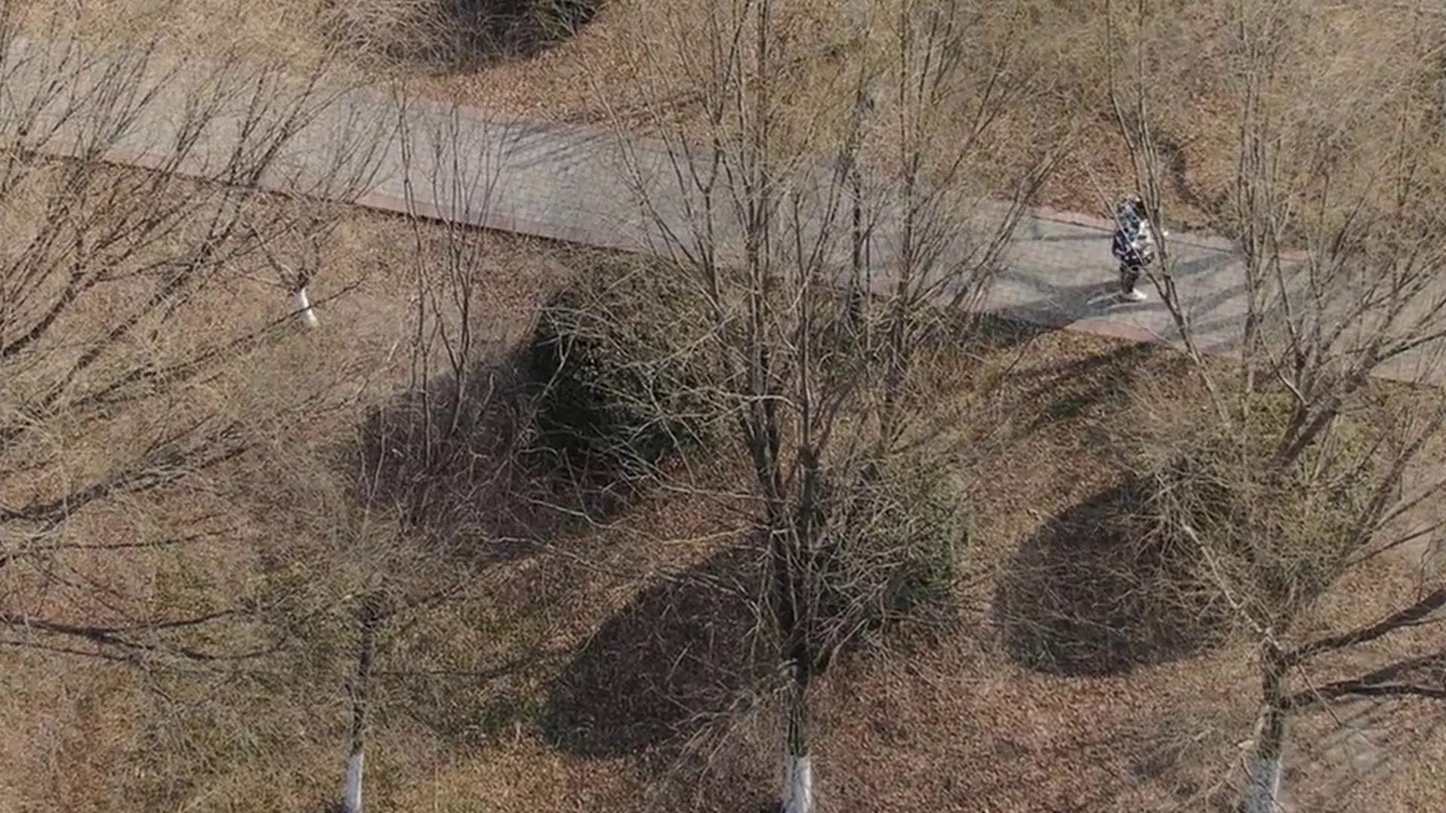human: (1106, 204, 1159, 324)
